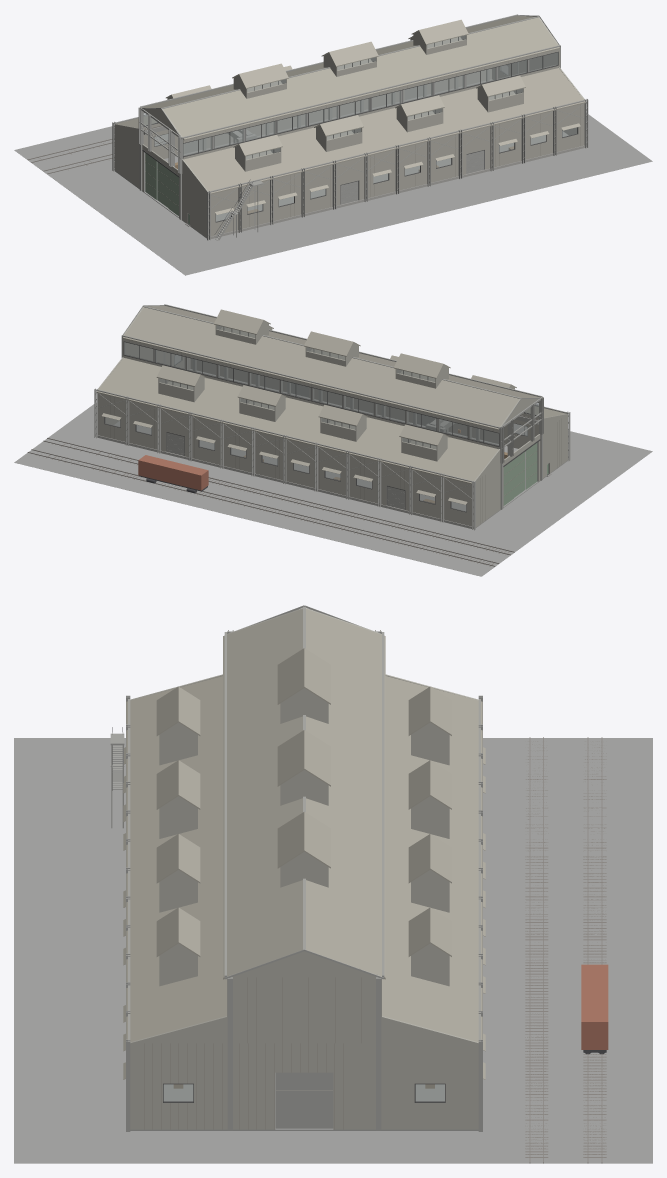
The model's file is clay-craneway-hall-clay-v002.glb.
The picture shows the model from 3 angles, top to bottom: view 1: azimuth 30°, elevation 25°; view 2: azimuth 150°, elevation 25°; view 3: azimuth 270°, elevation 25°; orthographic projection. The views are drawn at different scales.
Visible parts, largest first — view 1: CLAY_ROOF, CLAY_WALL, CLAY_FOUNDATION, CLAY_PALE, CLAY_GLASS, CLAY_TRIM, CLAY_GREEN, CLAY_STONE, CLAY_RAIL, CLAY_JOINT; view 2: CLAY_ROOF, CLAY_FOUNDATION, CLAY_WALL, CLAY_PALE, CLAY_GLASS, CLAY_RAIL, CLAY_TRIM, CLAY_CAR, CLAY_GREEN, CLAY_STONE, CLAY_JOINT; view 3: CLAY_FOUNDATION, CLAY_ROOF, CLAY_WALL, CLAY_PALE, CLAY_RAIL, CLAY_CAR, CLAY_JOINT, CLAY_GLASS.
Boxes of the visible parts, left/top/right/bottom form: CLAY_ROOF: left=116, top=16, right=585, bottom=214; CLAY_WALL: left=114, top=15, right=584, bottom=238; CLAY_FOUNDATION: left=14, top=65, right=652, bottom=275; CLAY_PALE: left=112, top=14, right=588, bottom=240; CLAY_GLASS: left=143, top=35, right=577, bottom=221; CLAY_TRIM: left=142, top=37, right=578, bottom=225; CLAY_GREEN: left=145, top=153, right=189, bottom=224; CLAY_STONE: left=185, top=145, right=584, bottom=238; CLAY_RAIL: left=27, top=65, right=555, bottom=174; CLAY_JOINT: left=145, top=54, right=580, bottom=226; CLAY_ROOF: left=97, top=306, right=565, bottom=504; CLAY_FOUNDATION: left=14, top=355, right=652, bottom=576; CLAY_WALL: left=98, top=305, right=567, bottom=528; CLAY_PALE: left=94, top=304, right=570, bottom=530; CLAY_GLASS: left=105, top=325, right=538, bottom=511; CLAY_RAIL: left=27, top=355, right=538, bottom=566; CLAY_TRIM: left=104, top=327, right=549, bottom=512; CLAY_CAR: left=138, top=455, right=208, bottom=490; CLAY_GREEN: left=503, top=443, right=548, bottom=505; CLAY_STONE: left=97, top=435, right=551, bottom=528; CLAY_JOINT: left=110, top=340, right=561, bottom=523; CLAY_FOUNDATION: left=14, top=738, right=652, bottom=1163; CLAY_ROOF: left=123, top=609, right=485, bottom=1079; CLAY_WALL: left=130, top=608, right=478, bottom=1129; CLAY_PALE: left=110, top=605, right=482, bottom=1131; CLAY_RAIL: left=525, top=737, right=606, bottom=1163; CLAY_CAR: left=581, top=964, right=608, bottom=1049; CLAY_JOINT: left=144, top=977, right=361, bottom=1129; CLAY_GLASS: left=163, top=1084, right=444, bottom=1101.
Bounding box in the file's own units: 104 × 23.93 × 66.
